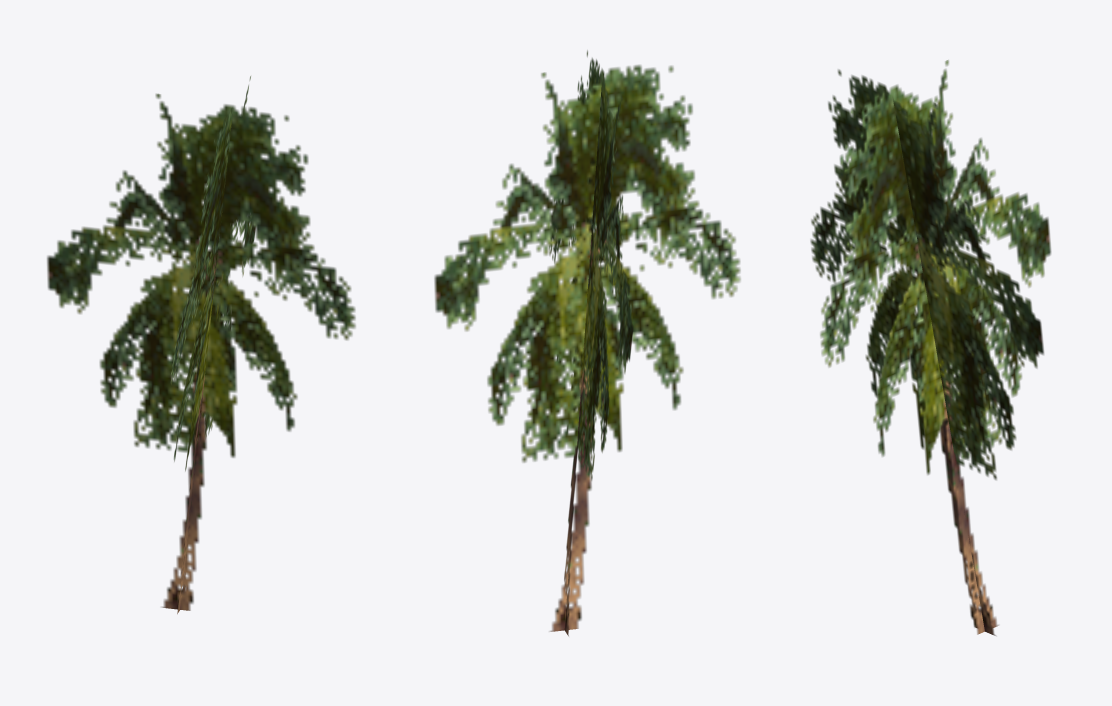
Rendered from tree032.glb.
The picture shows the model from 3 angles, left to right: view 1: azimuth 30°, elevation 25°; view 2: azimuth 150°, elevation 25°; view 3: azimuth 270°, elevation 25°; orthographic projection. The views are drawn at different scales.
Parts seen in each view (by area): view 1: tree032; view 2: tree032; view 3: tree032.
Boxes of the visible parts, box(x1,y1,x2,y2) form: tree032: box(47, 76, 355, 613); tree032: box(434, 50, 740, 636); tree032: box(810, 60, 1051, 635).
Bounding box in the file's own units: 2.63 × 5.1 × 2.56.
Materials: 1 (1 with a texture image).
